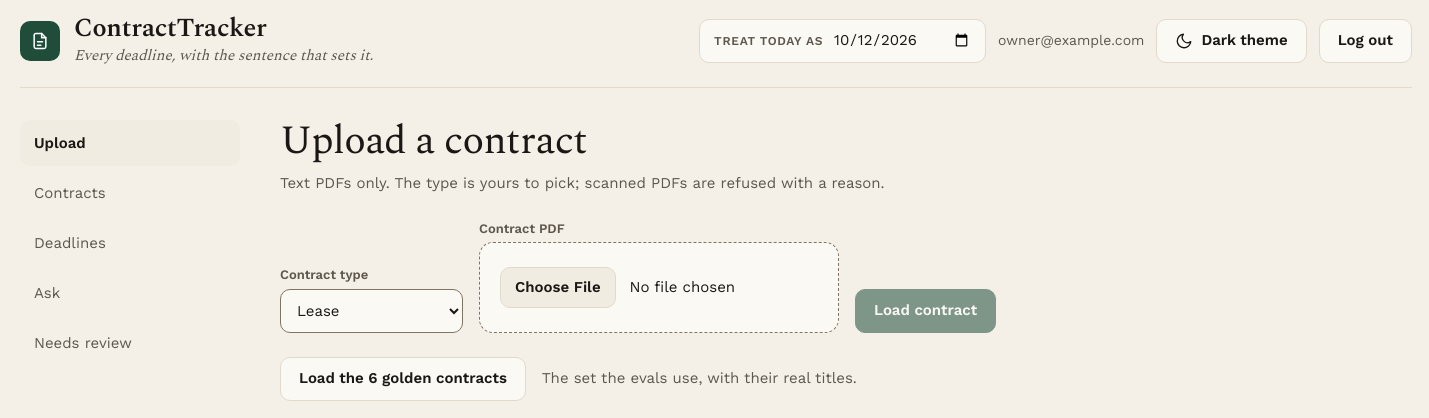
the page › shows the empty state before any contract is loaded
Expected: the tab "Upload" is shown, left=20, top=120, right=240, bottom=166
Click the tab "Contracts". click: (130, 193)
box: left=20, top=170, right=240, bottom=216
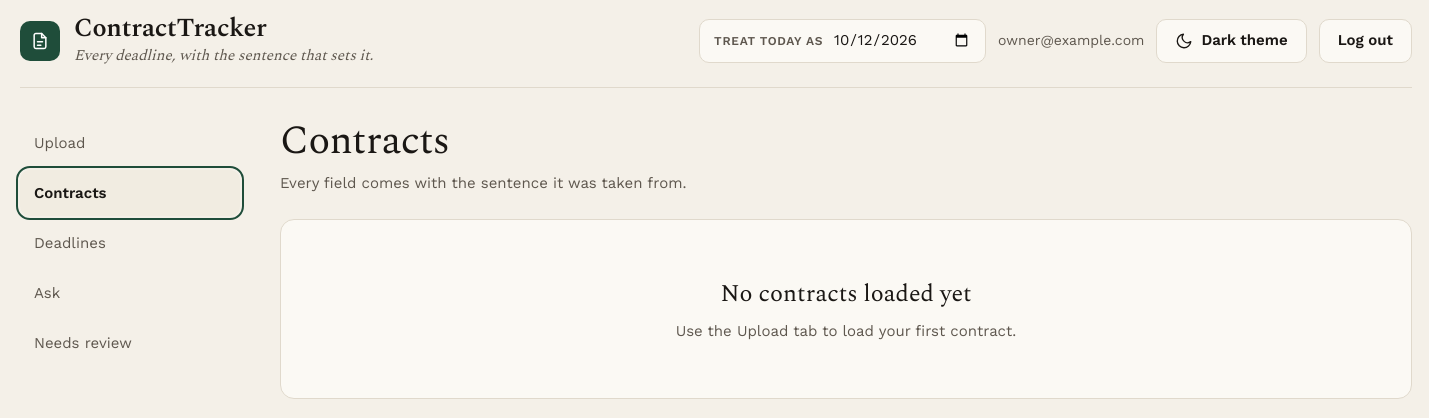
Expected: the text "No contracts loaded yet" is shown, left=720, top=276, right=972, bottom=312
